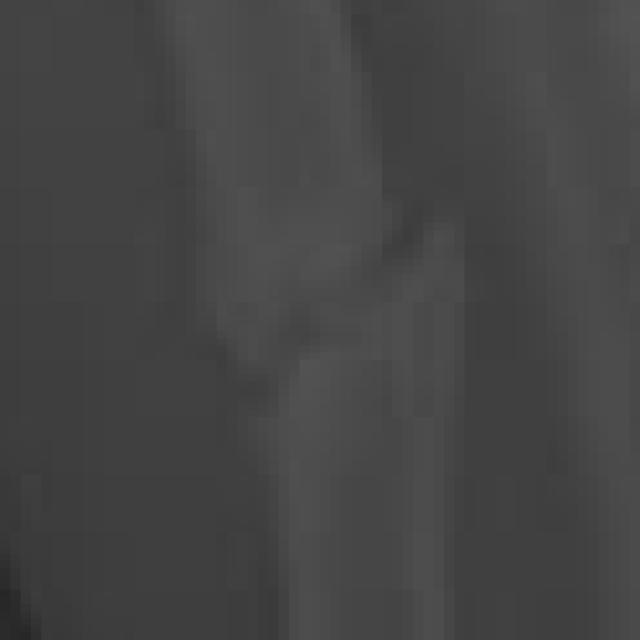fracture: (2, 0, 640, 637)
